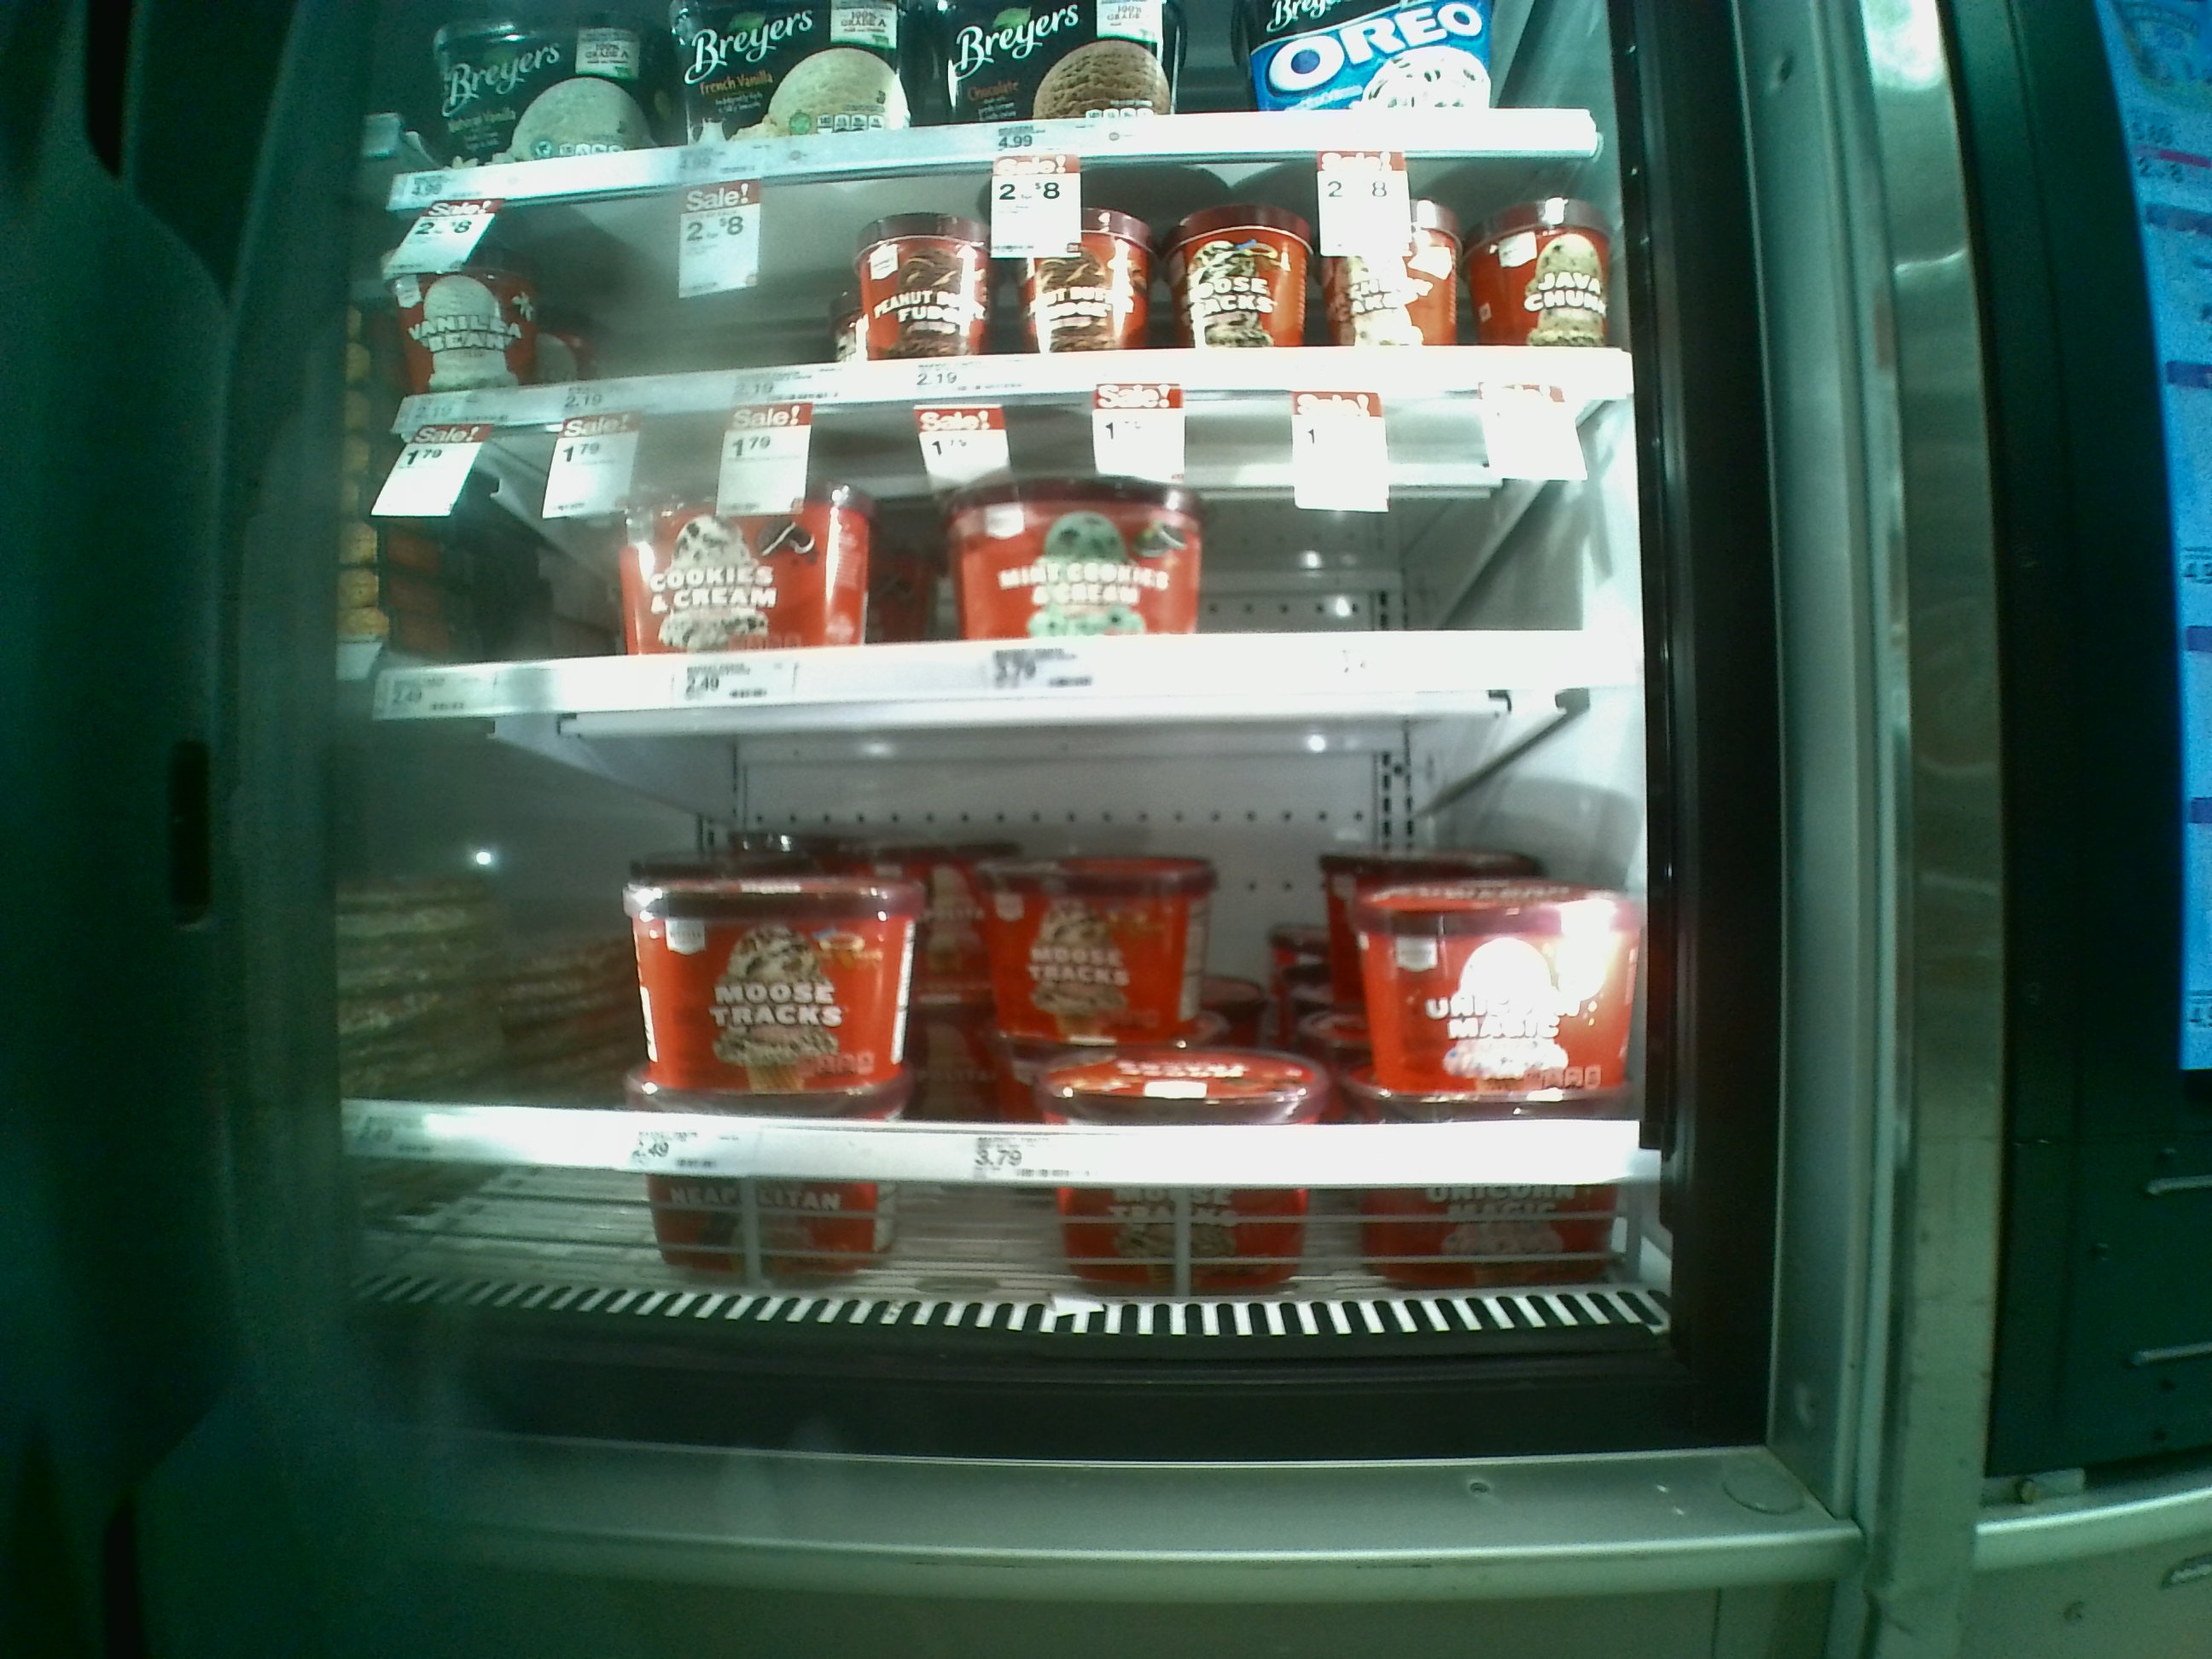shelf: (361, 704, 1663, 1202), (388, 387, 1639, 708), (381, 134, 1629, 430)
